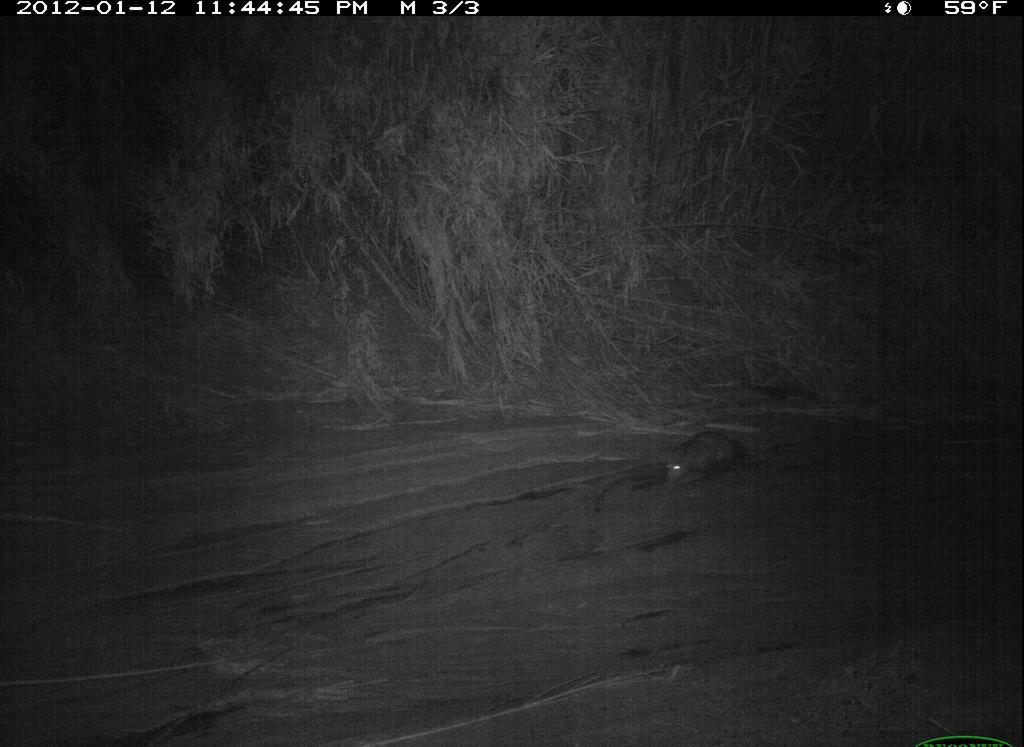opossum: (651, 427, 775, 493)
